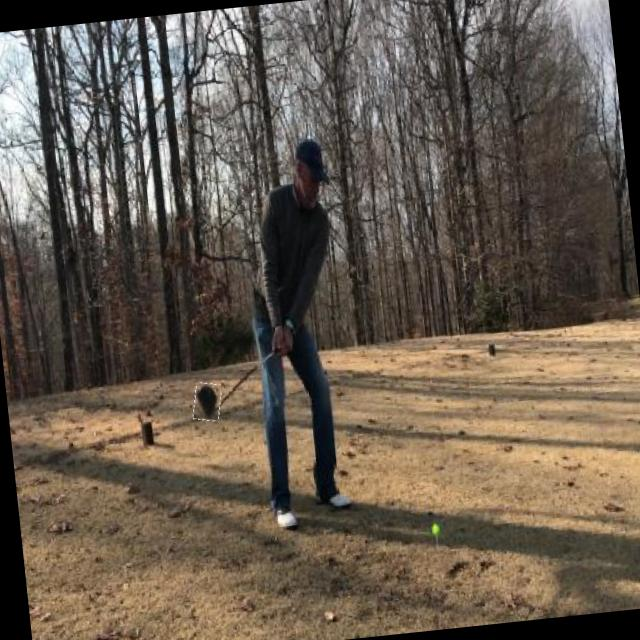club head: (191, 381, 222, 422)
